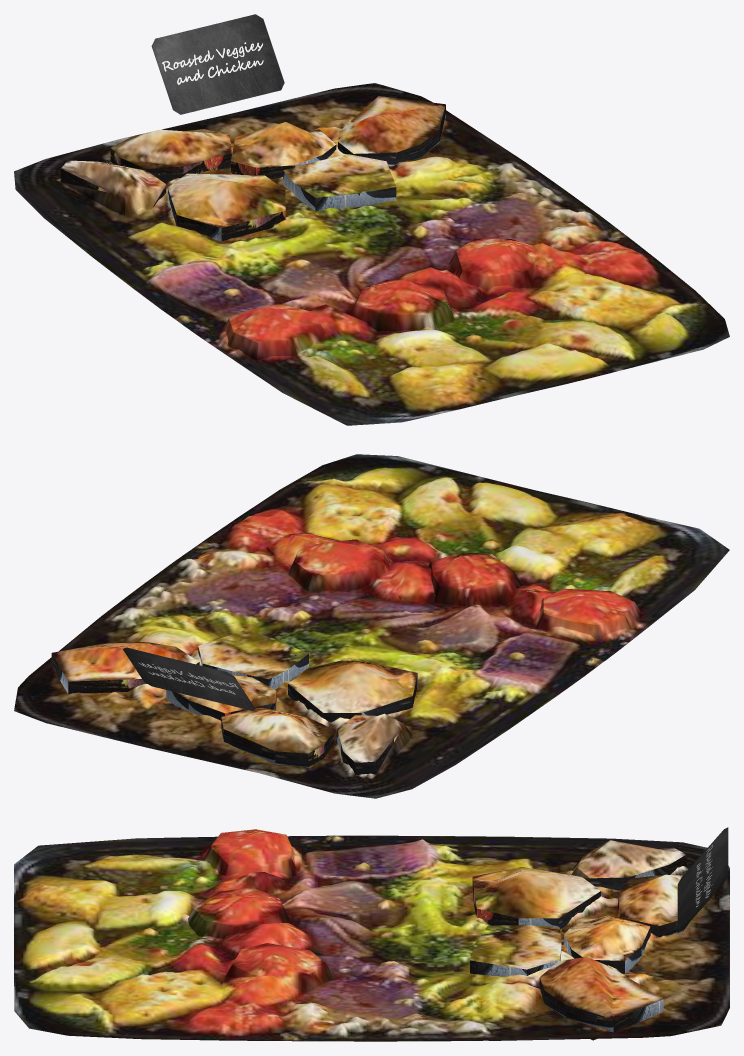
File: food_tray_8.glb
3 renders of one model, top to bottom at view 1: azimuth 30°, elevation 25°; view 2: azimuth 150°, elevation 25°; view 3: azimuth 270°, elevation 25°, orthographic.
Parts seen in each view (by area): view 1: Material2.014, Material2.015; view 2: Material2.014, Material2.015; view 3: Material2.014, Material2.015.
Part boxes in pixels (left/top/right/bottom): Material2.014: left=14, top=83, right=729, bottom=425; Material2.015: left=151, top=14, right=284, bottom=114; Material2.014: left=14, top=454, right=729, bottom=798; Material2.015: left=123, top=647, right=255, bottom=710; Material2.014: left=14, top=829, right=729, bottom=1041; Material2.015: left=677, top=827, right=728, bottom=932.
Size of the model in its own units: 6.81 by 1.84 by 10.02.
Materials: 2 (2 with a texture image).
